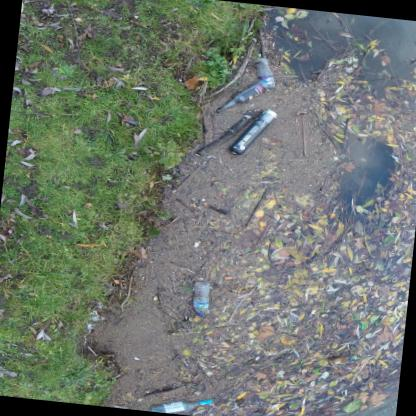Metal: (227, 109, 276, 155)
Plastic: (215, 80, 267, 113), (149, 398, 211, 413), (251, 58, 274, 89), (192, 281, 208, 316)
